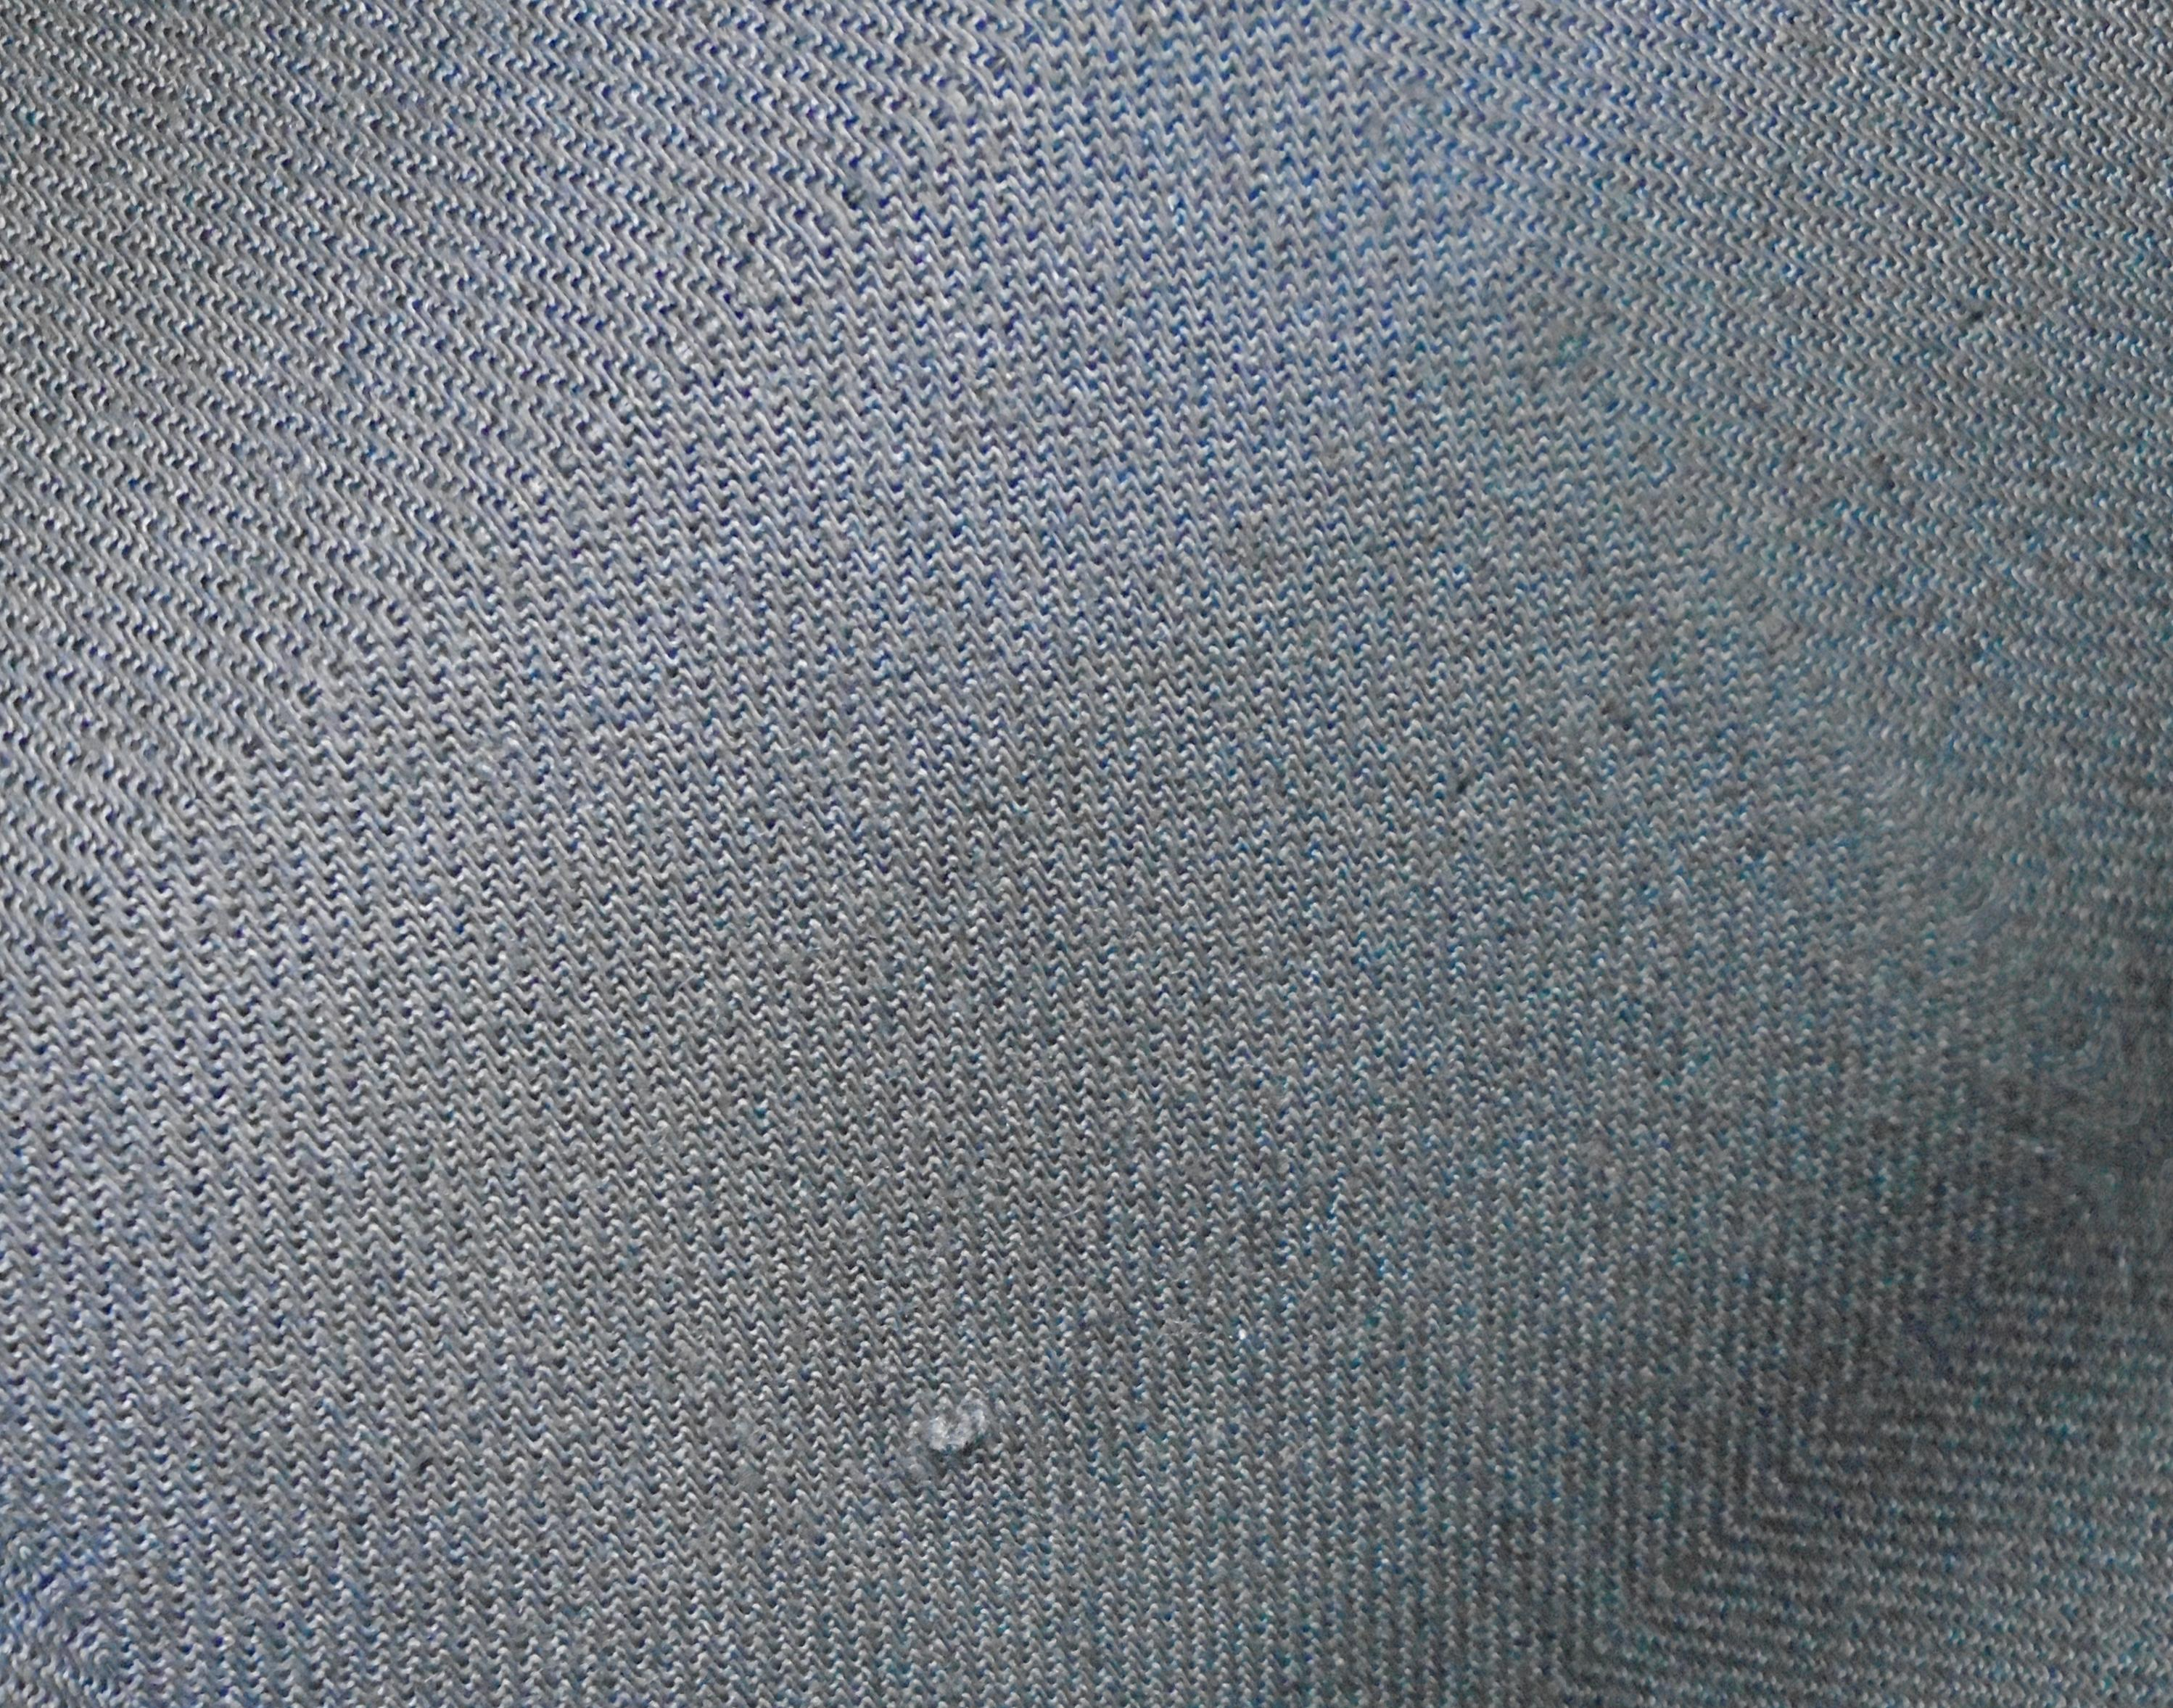knot: (891, 1378, 1042, 1484)
